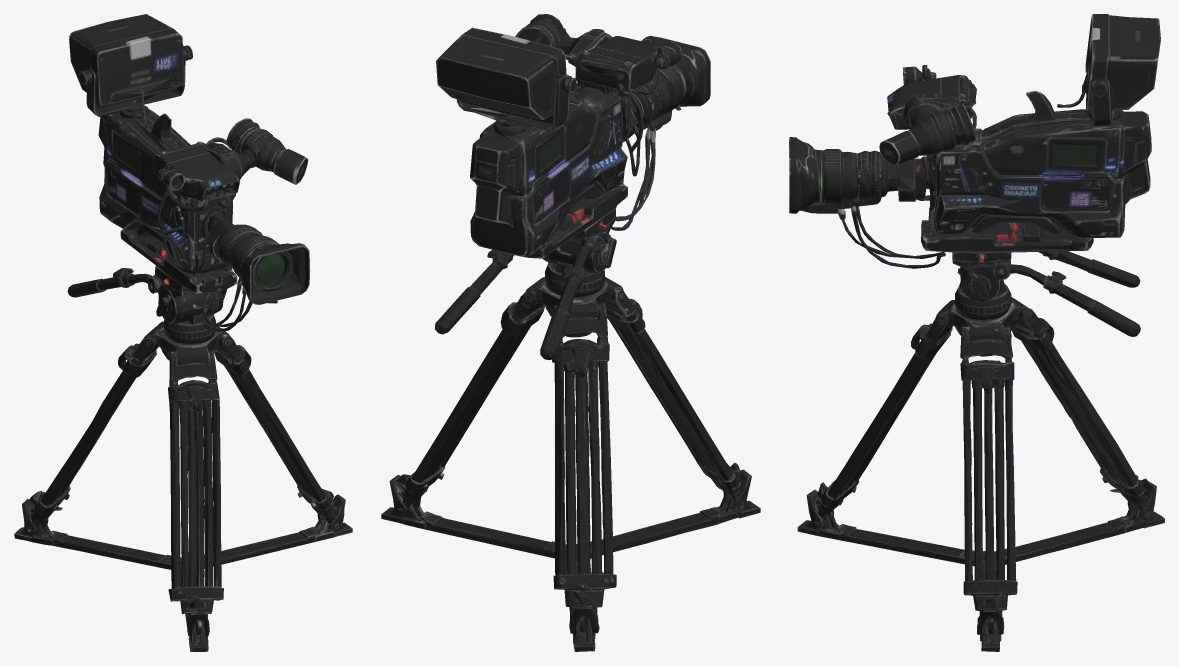
The model's file is milked-camera-tripod.glb.
3 renders of one model, left to right at view 1: azimuth 30°, elevation 25°; view 2: azimuth 150°, elevation 25°; view 3: azimuth 270°, elevation 25°, orthographic. The views are drawn at different scales.
Visible parts, largest first — view 1: output_unwrapped; view 2: output_unwrapped; view 3: output_unwrapped.
Part boxes in pixels (x1=…): output_unwrapped: x1=14, y1=14, x2=352, y2=651; output_unwrapped: x1=381, y1=14, x2=760, y2=651; output_unwrapped: x1=789, y1=14, x2=1164, y2=651.
Bounding box in the file's own units: 1.04 × 1.9 × 1.21.
Materials: 1 (1 with a texture image).
